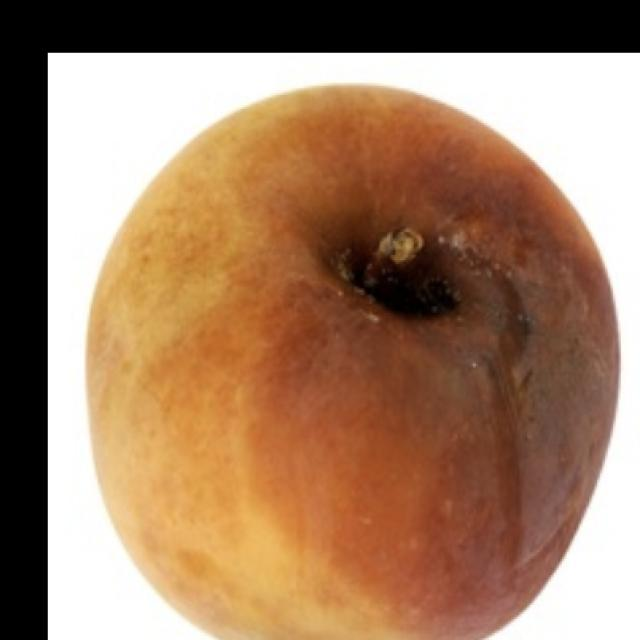Rotten: (88, 86, 619, 640)
